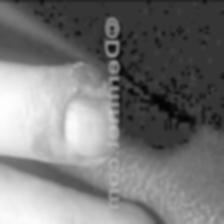Potentially Malignant Skin Tumors: (62, 59, 108, 159)
